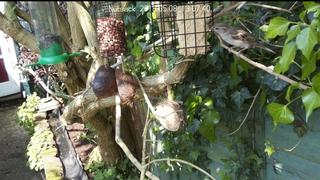sparrow: (208, 22, 278, 60)
